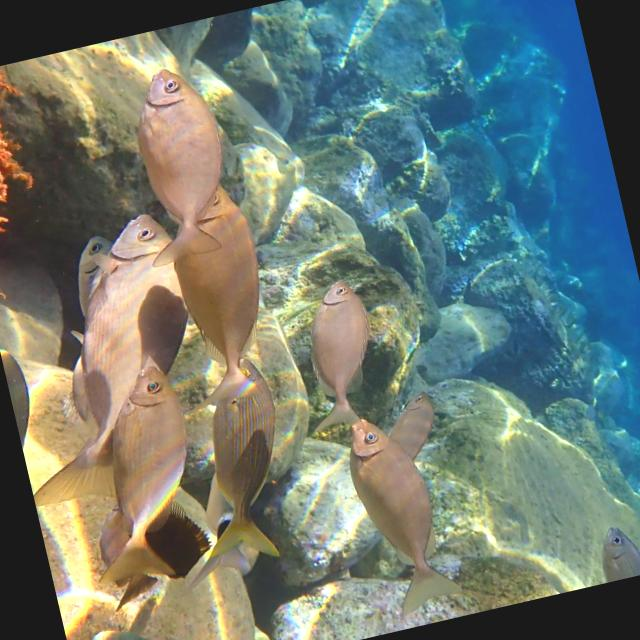Sokar Baligi: (98, 50, 262, 277), (338, 403, 468, 630)
